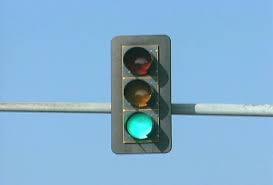green: (107, 32, 175, 158), (117, 43, 162, 147), (124, 47, 156, 141)
